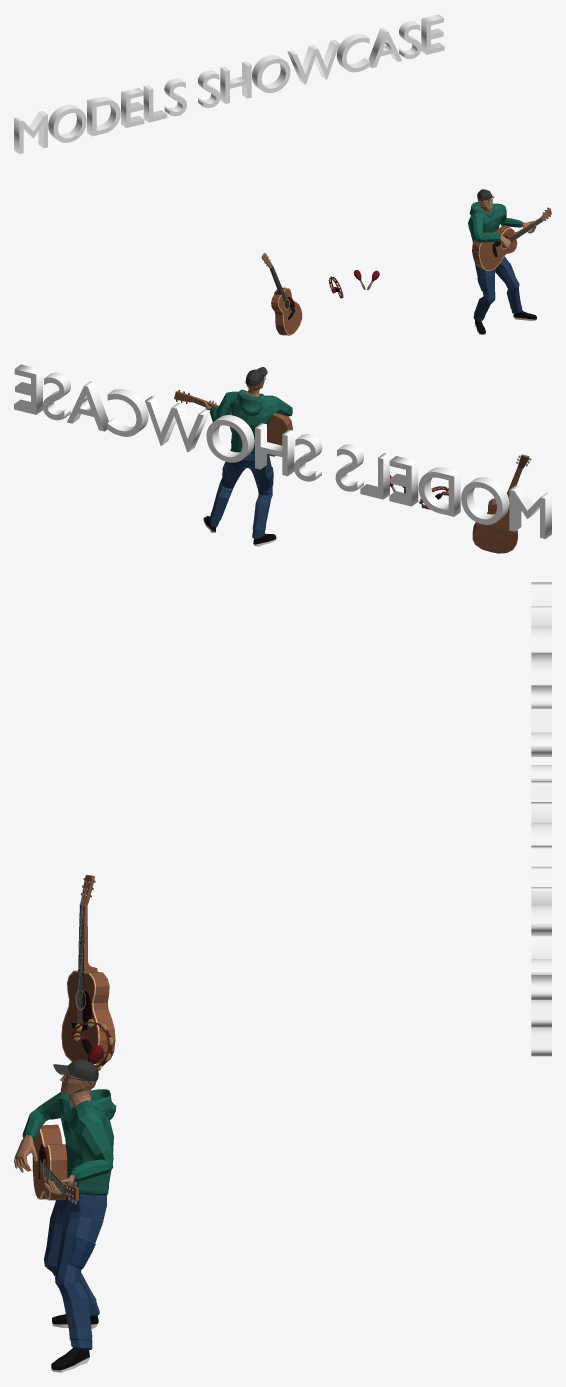
File: Musical_Instruments_-_PolyPack_-_Low_Poly_Assets.glb
3 renders of one model, top to bottom at view 1: azimuth 30°, elevation 25°; view 2: azimuth 150°, elevation 25°; view 3: azimuth 270°, elevation 25°, orthographic. The views are drawn at different scales.
Visible parts, largest first — view 1: Musical Instruments SKETCHFAB__0, Legs_CargoV1_Main_Sot_0, GuitarV1.001_Main_Sot_0, Torso_HoodieV1_Down_Main_Sot_0, GuitarV1_Main_Sot_0; view 2: Musical Instruments SKETCHFAB__0, Legs_CargoV1_Main_Sot_0, Torso_HoodieV1_Down_Main_Sot_0, GuitarV1_Main_Sot_0, GuitarV1.001_Main_Sot_0, Feet_ShoesV1_Main_Sot_0, CapV1_Main_Sot_0; view 3: Musical Instruments SKETCHFAB__0, Legs_CargoV1_Main_Sot_0, Torso_HoodieV1_Down_Main_Sot_0, GuitarV1_Main_Sot_0, GuitarV1.001_Main_Sot_0.
Part boxes in pixels (bbox=[...]): Musical Instruments SKETCHFAB__0: bbox=[14, 14, 444, 154]; Legs_CargoV1_Main_Sot_0: bbox=[473, 256, 522, 321]; GuitarV1.001_Main_Sot_0: bbox=[472, 207, 551, 271]; Torso_HoodieV1_Down_Main_Sot_0: bbox=[468, 202, 523, 242]; GuitarV1_Main_Sot_0: bbox=[261, 253, 302, 335]; Musical Instruments SKETCHFAB__0: bbox=[14, 364, 551, 538]; Legs_CargoV1_Main_Sot_0: bbox=[209, 449, 273, 539]; Torso_HoodieV1_Down_Main_Sot_0: bbox=[209, 389, 292, 453]; GuitarV1_Main_Sot_0: bbox=[472, 454, 531, 553]; GuitarV1.001_Main_Sot_0: bbox=[174, 390, 292, 456]; Feet_ShoesV1_Main_Sot_0: bbox=[203, 516, 276, 546]; CapV1_Main_Sot_0: bbox=[245, 367, 267, 386]; Musical Instruments SKETCHFAB__0: bbox=[531, 582, 551, 1056]; Legs_CargoV1_Main_Sot_0: bbox=[44, 1193, 106, 1349]; Torso_HoodieV1_Down_Main_Sot_0: bbox=[22, 1089, 116, 1195]; GuitarV1_Main_Sot_0: bbox=[61, 874, 115, 1063]; GuitarV1.001_Main_Sot_0: bbox=[32, 1124, 78, 1204].
Size of the model in its own units: 9.36 by 4.39 by 5.19.
2 materials, 1 textured.
